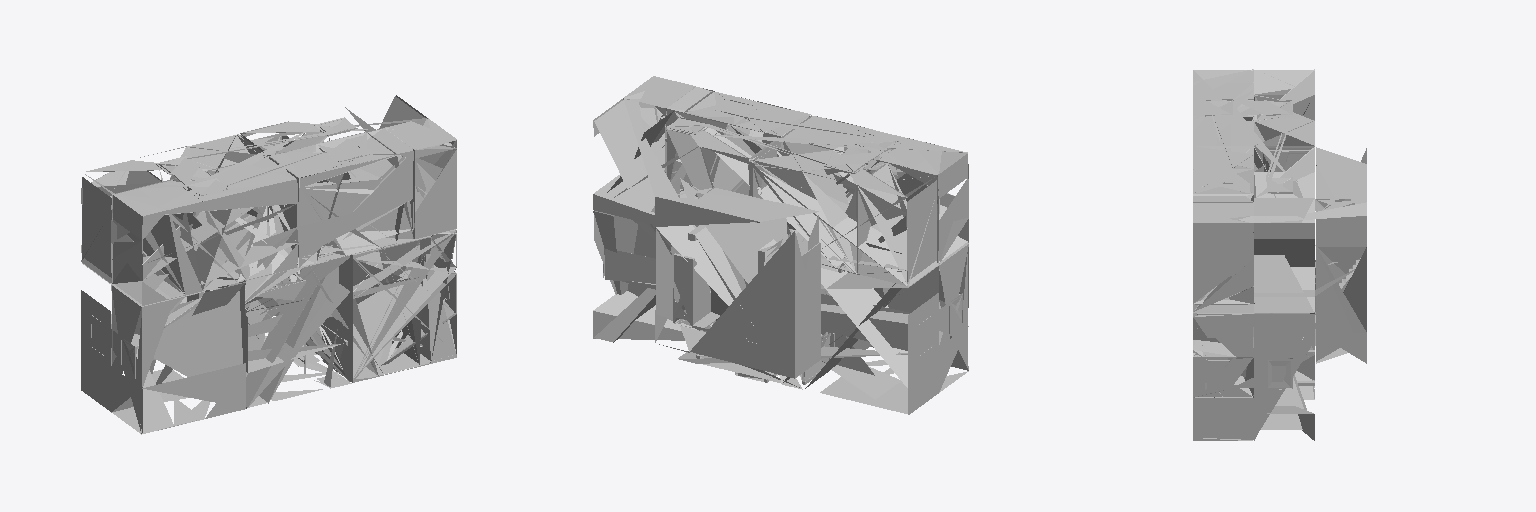
File: HouseNy-sharedassets1.assets-73.obj
The picture shows the model from 3 angles: view 1: azimuth 30°, elevation 25°; view 2: azimuth 150°, elevation 25°; view 3: azimuth 270°, elevation 25°; orthographic projection.
Parts seen in each view (by area): view 1: HouseNy_0; view 2: HouseNy_0; view 3: HouseNy_0.
Boxes of the visible parts, x1,y1,x2,y2 form: HouseNy_0: [81, 95, 456, 434]; HouseNy_0: [593, 76, 968, 414]; HouseNy_0: [1193, 69, 1366, 440].
Bounding box in the file's own units: 181 × 120 × 86.17.